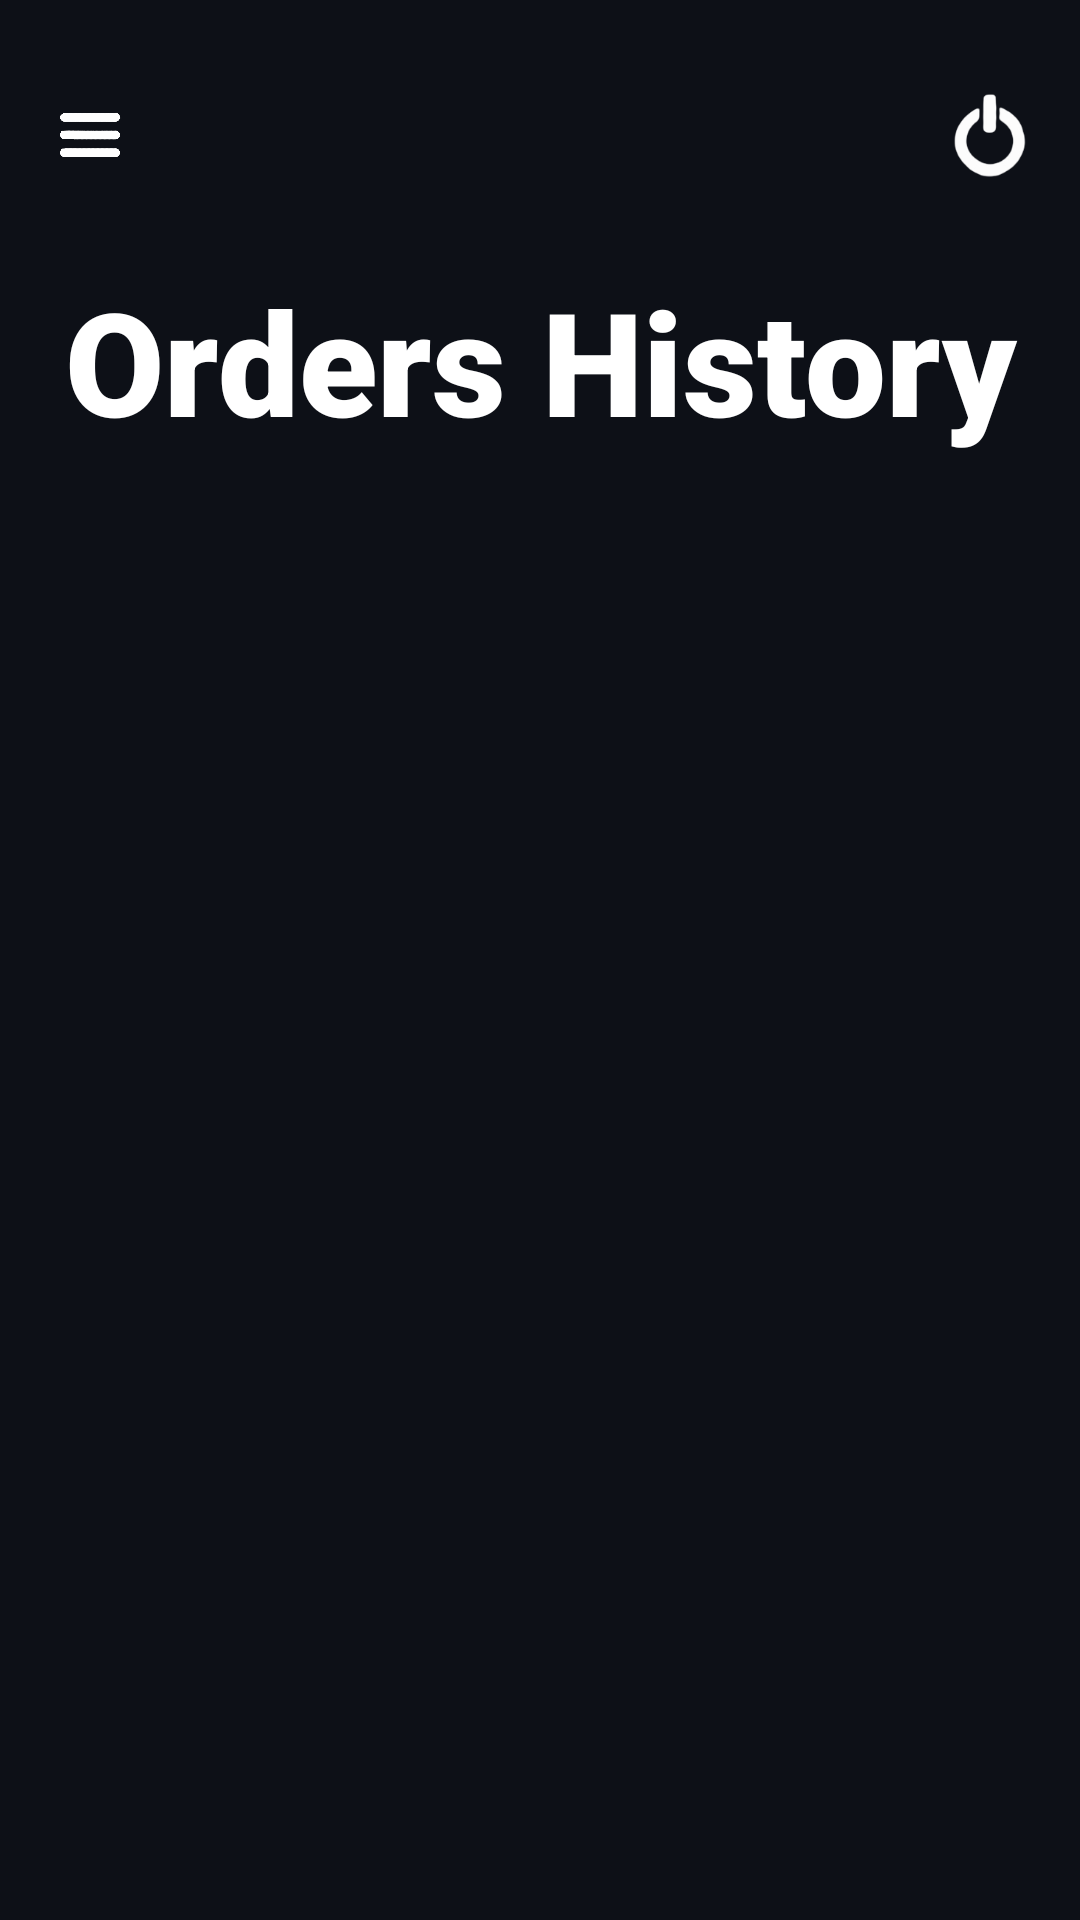

Screen size 1080*1920. Icon name, then its box in pixels as (x1, y1, x2, y2):
menu: (60, 113, 120, 157)
